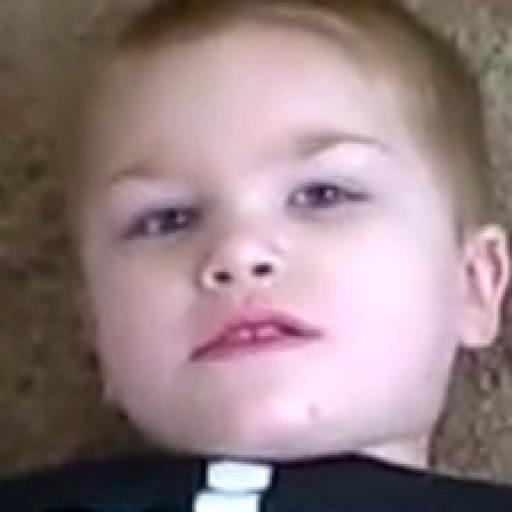Autism: (63, 24, 512, 455)
